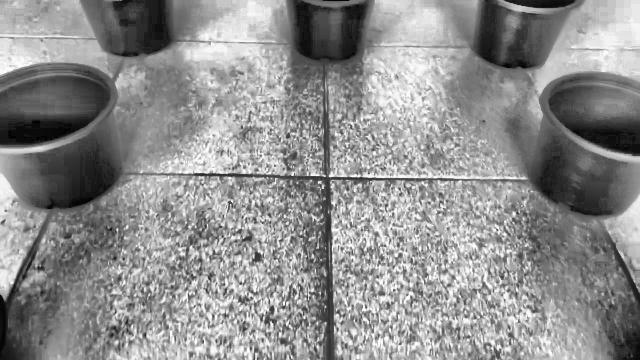pot: (0, 62, 124, 212), (530, 72, 640, 219)
